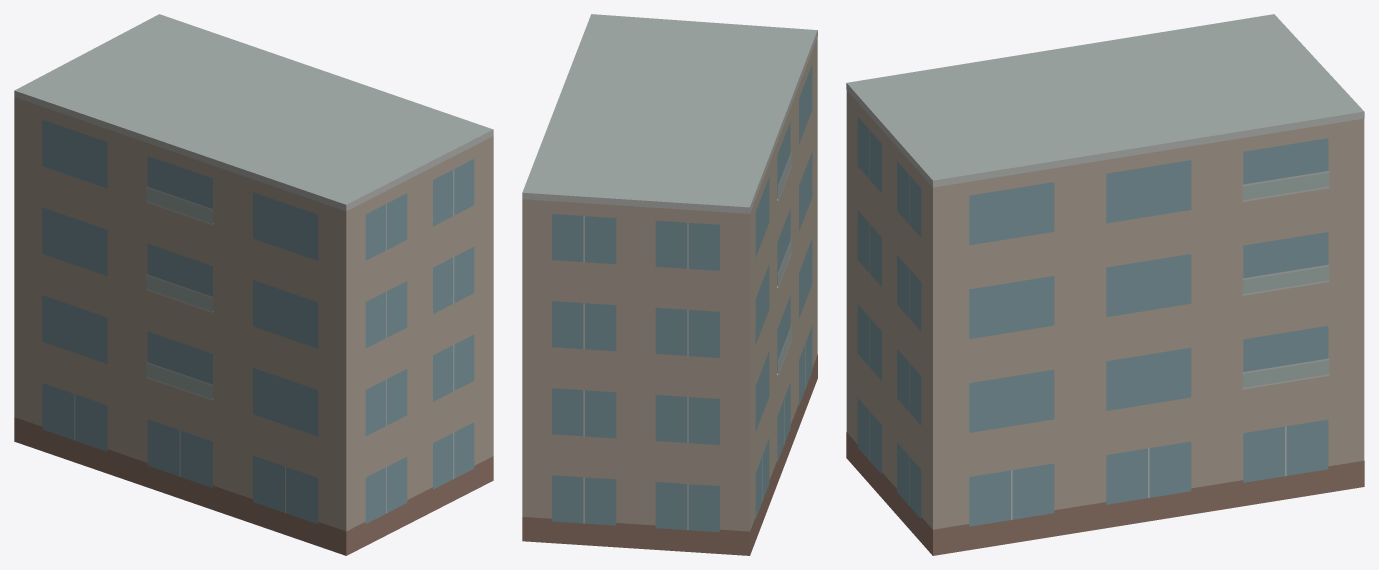
Rendered from survey-upis-33043048.glb.
3 views of the same model, side by side, from view 1: azimuth 30°, elevation 25°; view 2: azimuth 150°, elevation 25°; view 3: azimuth 270°, elevation 25° (orthographic). The views are drawn at different scales.
Parts seen in each view (by area): view 1: survey-upis-33043048.tmp; view 2: survey-upis-33043048.tmp; view 3: survey-upis-33043048.tmp.
Part boxes in pixels (x1,y1,x2,y2): survey-upis-33043048.tmp: (14,14,493,555); survey-upis-33043048.tmp: (522,14,817,555); survey-upis-33043048.tmp: (846,14,1364,555).
Size of the model in its own units: 12.58 by 13.2 by 16.52.
